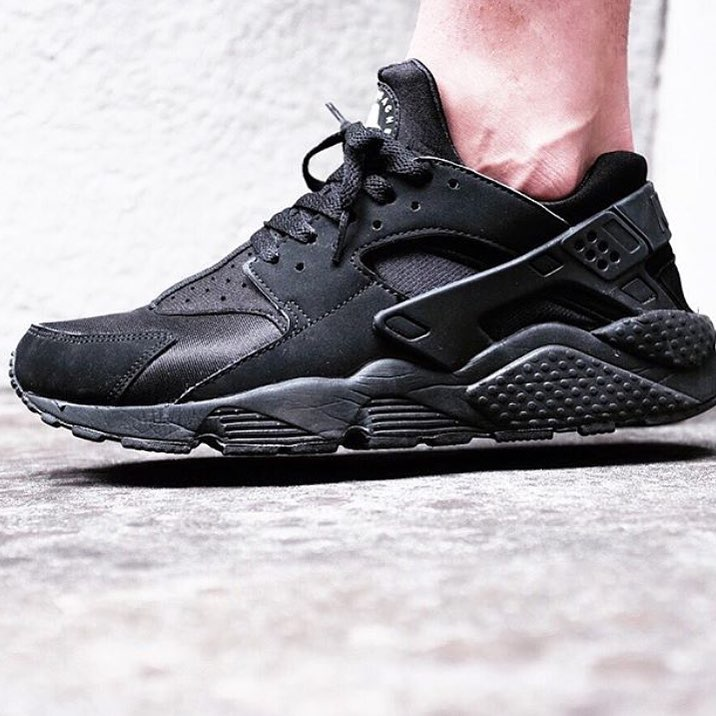sneaker: (1, 43, 716, 478)
